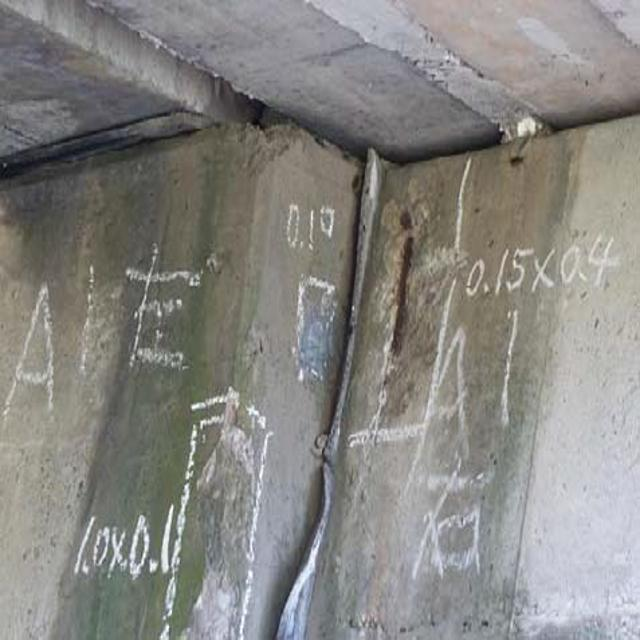leakage: (19, 138, 234, 603)
spalling: (369, 191, 460, 396)
